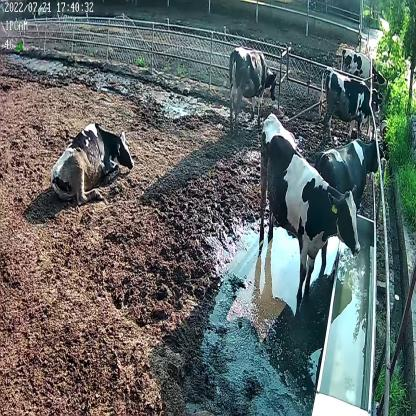cow: (257, 113, 361, 300), (50, 121, 136, 203), (315, 136, 384, 224), (317, 63, 380, 141), (228, 41, 278, 136), (340, 45, 387, 89)
